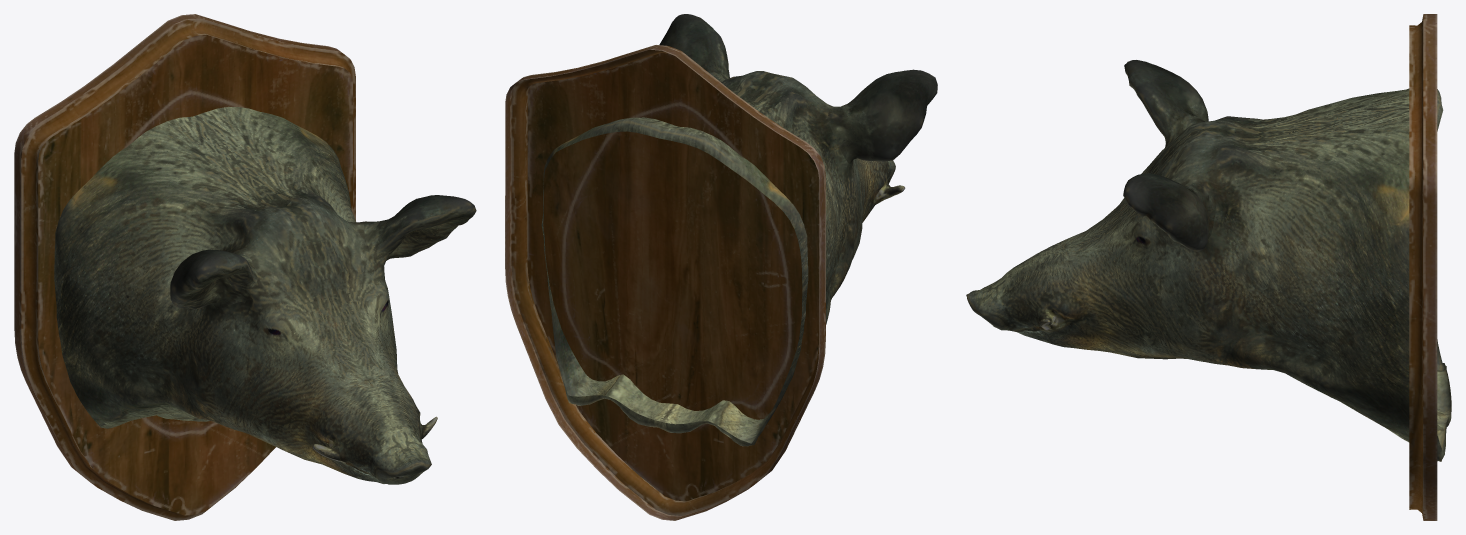
The model's file is Prop_WildBoar_Head.fbx.
3 views of the same model, side by side, from view 1: azimuth 30°, elevation 25°; view 2: azimuth 150°, elevation 25°; view 3: azimuth 270°, elevation 25° (orthographic). The views are drawn at different scales.
Parts seen in each view (by area): view 1: Prop_WildBoar_Head; view 2: Prop_WildBoar_Head; view 3: Prop_WildBoar_Head.
Part boxes in pixels (x1,y1,x2,y2): Prop_WildBoar_Head: (14, 14, 476, 520); Prop_WildBoar_Head: (505, 14, 937, 520); Prop_WildBoar_Head: (966, 14, 1451, 520).
Bounding box in the file's own units: 39.6 × 56.49 × 49.97.
